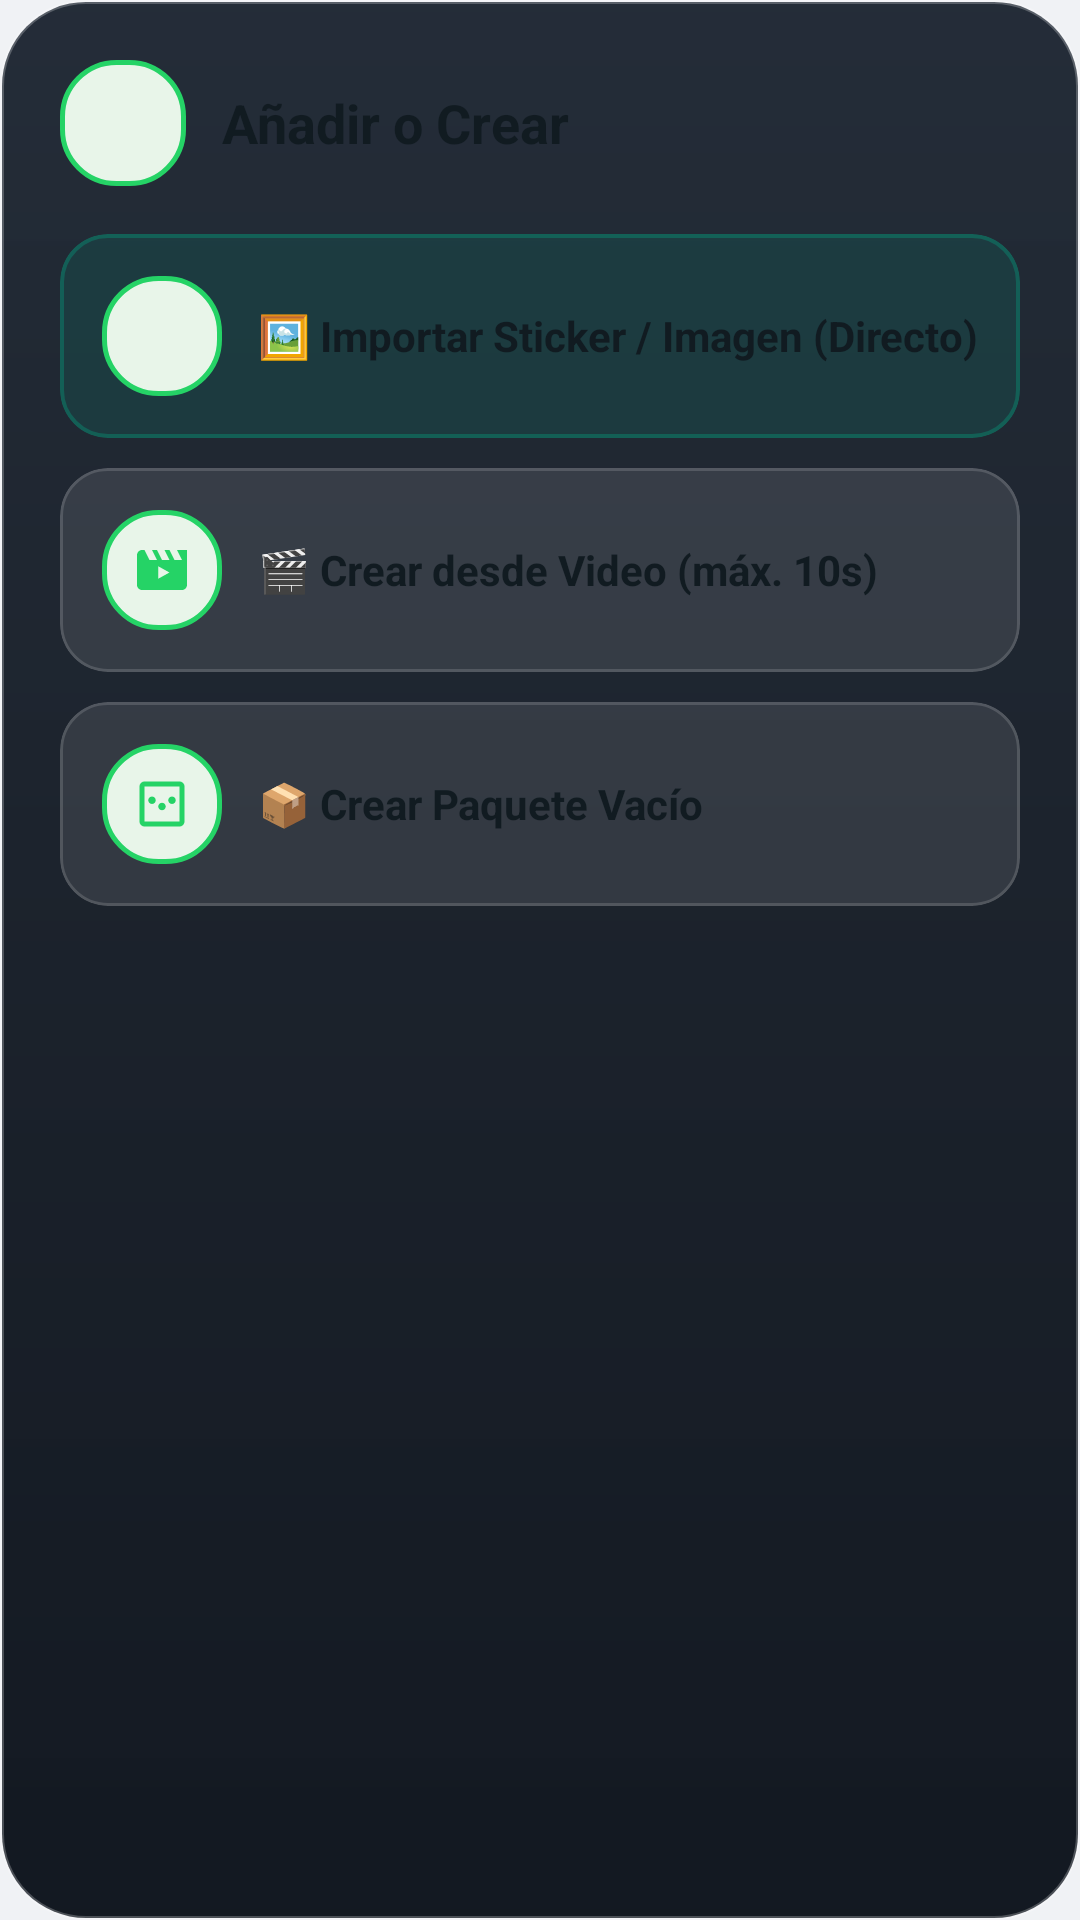

Where icons sit on this 1080 × 1920 app screen, as {"x1": x1, "y1": y1, "x2": x2, "y2": y2}:
movie: {"x1": 137, "y1": 550, "x2": 187, "y2": 590}
